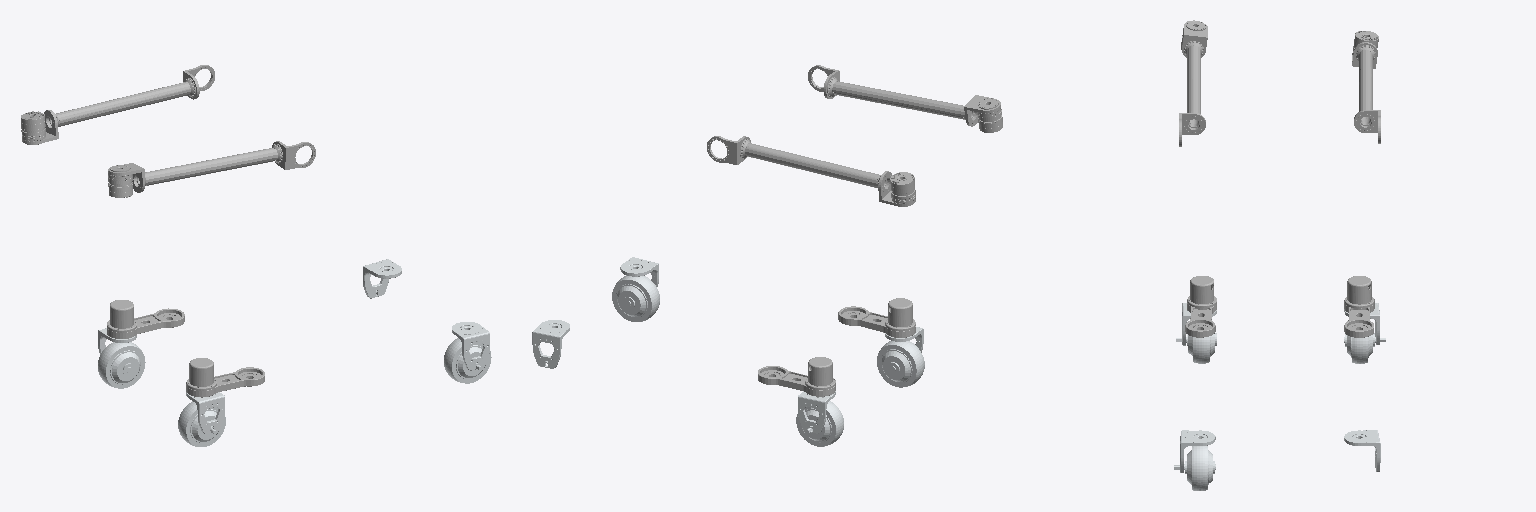
--- Render facts (derived) ---
The picture shows the robot from 3 angles, left to right: view 1: azimuth 30°, elevation 25°; view 2: azimuth 150°, elevation 25°; view 3: azimuth 270°, elevation 25°; orthographic projection.
Model ia_robot with 19 links and 18 joints (18 continuous), rooted at base_link, posed every joint at zero.
Visible links, largest first — view 1: LeftARM03, RightARM3, LeftFrontWheelOrient2, RightFrontWheelOrient2, RightFrontWheelOrient1, LeftFrontwheel, leftbackwheel, leftbackorient, Rightbackorient, LeftFrontWheelOrient1; view 2: RightARM3, LeftARM03, LeftFrontWheelOrient2, RightFrontWheelOrient2, LeftFrontwheel, leftbackwheel, Rightbackorient, RightFrontWheelOrient1, RightFrontWheelOrient01, leftbackorient; view 3: LeftARM03, RightARM3, RightFrontWheelOrient2, LeftFrontWheelOrient2, leftbackwheel, LeftFrontwheel, RightFrontWheelOrient1, Rightbackorient, leftbackorient.
Link boxes in pixels (left/top/right/bottom): LeftARM03: left=108, top=141, right=315, bottom=197; RightARM3: left=21, top=65, right=214, bottom=144; LeftFrontWheelOrient2: left=186, top=358, right=264, bottom=397; RightFrontWheelOrient2: left=107, top=300, right=184, bottom=338; RightFrontWheelOrient1: left=98, top=342, right=145, bottom=388; LeftFrontwheel: left=178, top=401, right=225, bottom=446; leftbackwheel: left=444, top=338, right=491, bottom=383; leftbackorient: left=452, top=322, right=489, bottom=370; Rightbackorient: left=363, top=259, right=401, bottom=298; LeftFrontWheelOrient1: left=186, top=392, right=224, bottom=433; RightARM3: left=707, top=136, right=915, bottom=206; LeftARM03: left=808, top=65, right=1002, bottom=132; LeftFrontWheelOrient2: left=838, top=298, right=915, bottom=337; RightFrontWheelOrient2: left=758, top=357, right=835, bottom=396; LeftFrontwheel: left=877, top=341, right=924, bottom=387; leftbackwheel: left=612, top=275, right=659, bottom=321; Rightbackorient: left=532, top=320, right=569, bottom=368; RightFrontWheelOrient1: left=796, top=401, right=843, bottom=446; RightFrontWheelOrient01: left=798, top=391, right=835, bottom=433; leftbackorient: left=620, top=257, right=658, bottom=286; LeftARM03: left=1179, top=20, right=1207, bottom=146; RightARM3: left=1352, top=31, right=1380, bottom=143; RightFrontWheelOrient2: left=1344, top=276, right=1374, bottom=337; LeftFrontWheelOrient2: left=1185, top=276, right=1216, bottom=337; leftbackwheel: left=1174, top=446, right=1215, bottom=490; LeftFrontwheel: left=1176, top=333, right=1216, bottom=363; RightFrontWheelOrient1: left=1344, top=333, right=1385, bottom=363; Rightbackorient: left=1344, top=430, right=1380, bottom=471; leftbackorient: left=1180, top=430, right=1215, bottom=472.
Size in the robot's own frame: 1.44 by 0.7004 by 1.09 metres.
11 mesh visuals loaded from 19 distinct referenced files (11 binary STL); not drawn: 8 (reference not matched to a file when rendering).

robot.urdf — ia_robot:
<?xml version="1.0" encoding="utf-8"?>
<!-- This URDF was automatically created by SolidWorks to URDF Exporter! Originally created by Stephen Brawner ([email redacted]) 
     Commit Version: 1.6.0-4-g7f85cfe  Build Version: 1.6.7995.38578
     For more information, please see http://wiki.ros.org/sw_urdf_exporter -->
<robot
  name="ia_robot">
  <link
    name="base_link">
    <inertial>
      <origin
        xyz="0.037909 0.00021539 0.8026"
        rpy="0 0 0" />
      <mass
        value="42.189" />
      <inertia
        ixx="0.60924"
        ixy="-1.347E-07"
        ixz="0.0040799"
        iyy="0.39675"
        iyz="-6.3541E-06"
        izz="0.41271" />
    </inertial>
    <visual>
      <origin
        xyz="0 0 0"
        rpy="0 0 0" />
      <geometry>
        <mesh
          filename="package://ia_robot/meshes/base_link.STL" />
      </geometry>
      <material
        name="">
        <color
          rgba="0.75294 0.75294 0.75294 1" />
      </material>
    </visual>
    <collision>
      <origin
        xyz="0 0 0"
        rpy="0 0 0" />
      <geometry>
        <mesh
          filename="package://ia_robot/meshes/base_link.STL" />
      </geometry>
    </collision>
  </link>
  <joint
    name="leftbackwheel01"
    type="continuous">
    <origin
      xyz="-2.8509E-05 -0.0019998 -0.11"
      rpy="1.5708 0 3.1416" />
    <parent
      link="leftbackorient" />
    <child
      link="leftbackwheel" />
    <axis
      xyz="0 0 -1" />
    <limit
      effort="50"
      velocity="0" />
  </joint>
  <link
    name="leftbackorient">
    <inertial>
      <origin
        xyz="-0.00048945 -0.034334 -0.028302"
        rpy="0 0 0" />
      <mass
        value="0.21206" />
      <inertia
        ixx="0.00050188"
        ixy="-7.6737E-07"
        ixz="-1.9027E-06"
        iyy="0.00044807"
        iyz="-0.00013346"
        izz="0.00041211" />
    </inertial>
    <visual>
      <origin
        xyz="0 0 0"
        rpy="0 0 0" />
      <geometry>
        <mesh
          filename="package://ia_robot/meshes/leftbackorient.STL" />
      </geometry>
      <material
        name="">
        <color
          rgba="0.89804 0.91765 0.92941 1" />
      </material>
    </visual>
    <collision>
      <origin
        xyz="0 0 0"
        rpy="0 0 0" />
      <geometry>
        <mesh
          filename="package://ia_robot/meshes/leftbackorient.STL" />
      </geometry>
    </collision>
  </link>
  <joint
    name="leftbackorient01"
    type="continuous">
    <origin
      xyz="0.5 -0.2635 0.18937"
      rpy="0 0 0" />
    <parent
      link="base_link" />
    <child
      link="leftbackorient" />
    <axis
      xyz="0 0 -1" />
    <limit
      effort="13.5"
      velocity="0" />
  </joint>
  <link
    name="leftbackwheel">
    <inertial>
      <origin
        xyz="0 0 -0.00020767"
        rpy="0 0 0" />
      <mass
        value="3.6182" />
      <inertia
        ixx="0.0065597"
        ixy="7.8927E-20"
        ixz="3.0493E-19"
        iyy="0.0065597"
        iyz="-3.7641E-19"
        izz="0.0096608" />
    </inertial>
    <visual>
      <origin
        xyz="0 0 0"
        rpy="0 0 0" />
      <geometry>
        <mesh
          filename="package://ia_robot/meshes/leftbackwheel.STL" />
      </geometry>
      <material
        name="">
        <color
          rgba="0.89804 0.91765 0.92941 1" />
      </material>
    </visual>
    <collision>
      <origin
        xyz="0 0 0"
        rpy="0 0 0" />
      <geometry>
        <mesh
          filename="package://ia_robot/meshes/leftbackwheel.STL" />
      </geometry>
    </collision>
  </link>
  <link
    name="Rightbackorient">
    <inertial>
      <origin
        xyz="-0.0027669 0.034225 -0.028302"
        rpy="0 0 0" />
      <mass
        value="0.21206" />
      <inertia
        ixx="0.00050155"
        ixy="4.3244E-06"
        ixz="-1.0756E-05"
        iyy="0.0004484"
        iyz="0.00013304"
        izz="0.00041211" />
    </inertial>
    <visual>
      <origin
        xyz="0 0 0"
        rpy="0 0 0" />
      <geometry>
        <mesh
          filename="package://ia_robot/meshes/Rightbackorient.STL" />
      </geometry>
      <material
        name="">
        <color
          rgba="0.89804 0.91765 0.92941 1" />
      </material>
    </visual>
    <collision>
      <origin
        xyz="0 0 0"
        rpy="0 0 0" />
      <geometry>
        <mesh
          filename="package://ia_robot/meshes/Rightbackorient.STL" />
      </geometry>
    </collision>
  </link>
  <joint
    name="Rightbackorient-1"
    type="continuous">
    <origin
      xyz="0.5 0.2635 0.18937"
      rpy="0 0 0" />
    <parent
      link="base_link" />
    <child
      link="Rightbackorient" />
    <axis
      xyz="0 0 -1" />
    <limit
      effort="13.5"
      velocity="0" />
  </joint>
  <link
    name="Rightbackwheel">
    <inertial>
      <origin
        xyz="-1.67345419225806E-05 1.11022302462516E-16 -0.000206996303198315"
        rpy="0 0 0" />
      <mass
        value="3.61818023273865" />
      <inertia
        ixx="0.00657987024245532"
        ixy="7.49384900018109E-20"
        ixz="0.000249074423068998"
        iyy="0.00655966618652465"
        iyz="-3.63354164127521E-19"
        izz="0.0096406359768352" />
    </inertial>
    <visual>
      <origin
        xyz="0 0 0"
        rpy="0 0 0" />
      <geometry>
        <mesh
          filename="package://ia_robot/meshes/Rightbackwheel.STL" />
      </geometry>
      <material
        name="">
        <color
          rgba="0.898039215686275 0.917647058823529 0.929411764705882 1" />
      </material>
    </visual>
    <collision>
      <origin
        xyz="0 0 0"
        rpy="0 0 0" />
      <geometry>
        <mesh
          filename="package://ia_robot/meshes/Rightbackwheel.STL" />
      </geometry>
    </collision>
  </link>
  <joint
    name="Rightbackwheel-1"
    type="continuous">
    <origin
      xyz="-0.000161163470126346 0.00199349600849796 -0.11"
      rpy="1.5708 0 0" />
    <parent
      link="Rightbackorient" />
    <child
      link="Rightbackwheel" />
    <axis
      xyz="-0.08058173506303 0 -0.996748004248933" />
    <limit
      effort="50"
      velocity="0" />
  </joint>
  <link
    name="LeftFrontWheelOrient2">
    <inertial>
      <origin
        xyz="-0.11285418489353 0.00356568192950379 0.0139762389318379"
        rpy="0 0 0" />
      <mass
        value="0.427167332080997" />
      <inertia
        ixx="0.000418522032180055"
        ixy="4.89846927753665E-05"
        ixz="4.27468579690659E-05"
        iyy="0.00190242881630566"
        iyz="-2.39309753871588E-07"
        izz="0.00211243261005077" />
    </inertial>
    <visual>
      <origin
        xyz="0 0 0"
        rpy="0 0 0" />
      <geometry>
        <mesh
          filename="package://ia_robot/meshes/LeftFrontWheelOrient2.STL" />
      </geometry>
      <material
        name="">
        <color
          rgba="0.752941176470588 0.752941176470588 0.752941176470588 1" />
      </material>
    </visual>
    <collision>
      <origin
        xyz="0 0 0"
        rpy="0 0 0" />
      <geometry>
        <mesh
          filename="package://ia_robot/meshes/LeftFrontWheelOrient2.STL" />
      </geometry>
    </collision>
  </link>
  <joint
    name="LeftFrontWheelOrient2-1"
    type="continuous">
    <origin
      xyz="-0.32 -0.2635 0.20475"
      rpy="0 0 0" />
    <parent
      link="base_link" />
    <child
      link="LeftFrontWheelOrient2" />
    <axis
      xyz="0 0 -1" />
    <limit
      effort="49"
      velocity="0" />
  </joint>
  <link
    name="LeftFrontWheelOrient1">
    <inertial>
      <origin
        xyz="-0.000948507831906586 0.0343239444320287 -0.0283016270647419"
        rpy="0 0 0" />
      <mass
        value="0.212057188740176" />
      <inertia
        ixx="0.000501854273498574"
        ixy="1.48669107184792E-06"
        ixz="-3.687019665672E-06"
        iyy="0.000448096442339725"
        iyz="0.000133424417808254"
        izz="0.000412109578902224" />
    </inertial>
    <visual>
      <origin
        xyz="0 0 0"
        rpy="0 0 0" />
      <geometry>
        <mesh
          filename="package://ia_robot/meshes/LeftFrontWheelOrient1.STL" />
      </geometry>
      <material
        name="">
        <color
          rgba="0.898039215686275 0.917647058823529 0.929411764705882 1" />
      </material>
    </visual>
    <collision>
      <origin
        xyz="0 0 0"
        rpy="0 0 0" />
      <geometry>
        <mesh
          filename="package://ia_robot/meshes/LeftFrontWheelOrient1.STL" />
      </geometry>
    </collision>
  </link>
  <joint
    name="LeftFrontWheelOrient1-1"
    type="continuous">
    <origin
      xyz="-0.179905283136192 0.00583858713100255 -0.0146000000000007"
      rpy="0 0 3.1416" />
    <parent
      link="LeftFrontWheelOrient2" />
    <child
      link="LeftFrontWheelOrient1" />
    <axis
      xyz="0 0 -1" />
    <limit
      effort="13.5"
      velocity="0" />
  </joint>
  <link
    name="LeftFrontwheel">
    <inertial>
      <origin
        xyz="1.11022302462516E-16 1.11022302462516E-16 -0.000207671650523461"
        rpy="0 0 0" />
      <mass
        value="3.61818023273865" />
      <inertia
        ixx="0.00655973110012054"
        ixy="-1.3505572451808E-08"
        ixz="8.40256683676266E-19"
        iyy="0.00655966899642117"
        iyz="-8.51314352824881E-19"
        izz="0.00966077230927346" />
    </inertial>
    <visual>
      <origin
        xyz="0 0 0"
        rpy="0 0 0" />
      <geometry>
        <mesh
          filename="package://ia_robot/meshes/LeftFrontwheel.STL" />
      </geometry>
      <material
        name="">
        <color
          rgba="0.898039215686275 0.917647058823529 0.929411764705882 1" />
      </material>
    </visual>
    <collision>
      <origin
        xyz="0 0 0"
        rpy="0 0 0" />
      <geometry>
        <mesh
          filename="package://ia_robot/meshes/LeftFrontwheel.STL" />
      </geometry>
    </collision>
  </link>
  <joint
    name="LeftFrontwheel-1"
    type="continuous">
    <origin
      xyz="-5.52466221374059E-05 0.00199923680706893 -0.11"
      rpy="1.5708 0 0" />
    <parent
      link="LeftFrontWheelOrient1" />
    <child
      link="LeftFrontwheel" />
    <axis
      xyz="0 0 -1" />
    <limit
      effort="50"
      velocity="0" />
  </joint>
  <link
    name="RightFrontWheelOrient2">
    <inertial>
      <origin
        xyz="-0.112910374002102 0.00016905120845867 0.0139762389318376"
        rpy="0 0 0" />
      <mass
        value="0.427167332080998" />
      <inertia
        ixx="0.000416919067382263"
        ixy="4.27554581620662E-06"
        ixz="4.27347098463978E-05"
        iyy="0.00190403178110341"
        iyz="1.04676154423375E-06"
        izz="0.00211243261005077" />
    </inertial>
    <visual>
      <origin
        xyz="0 0 0"
        rpy="0 0 0" />
      <geometry>
        <mesh
          filename="package://ia_robot/meshes/RightFrontWheelOrient2.STL" />
      </geometry>
      <material
        name="">
        <color
          rgba="0.752941176470588 0.752941176470588 0.752941176470588 1" />
      </material>
    </visual>
    <collision>
      <origin
        xyz="0 0 0"
        rpy="0 0 0" />
      <geometry>
        <mesh
          filename="package://ia_robot/meshes/RightFrontWheelOrient2.STL" />
      </geometry>
    </collision>
  </link>
  <joint
    name="RightFrontWheelOrient2-1"
    type="continuous">
    <origin
      xyz="-0.32 0.2635 0.20412"
      rpy="0 0 0" />
    <parent
      link="base_link" />
    <child
      link="RightFrontWheelOrient2" />
    <axis
      xyz="0 0 -1" />
    <limit
      effort="49"
      velocity="0" />
  </joint>
  <link
    name="RightFrontWheelOrient01">
    <inertial>
      <origin
        xyz="-0.00182113120158134 0.0342887189825656 -0.0283016221542728"
        rpy="0 0 0" />
      <mass
        value="0.212057174883898" />
      <inertia
        ixx="0.000501743833498989"
        ixy="2.8515022611008E-06"
        ixz="-7.07907323328318E-06"
        iyy="0.000448206722575077"
        iyz="0.000133287481761764"
        izz="0.000412109562839574" />
    </inertial>
    <visual>
      <origin
        xyz="0 0 0"
        rpy="0 0 0" />
      <geometry>
        <mesh
          filename="package://ia_robot/meshes/RightFrontWheelOrient01.STL" />
      </geometry>
      <material
        name="">
        <color
          rgba="0.898039215686275 0.917647058823529 0.929411764705882 1" />
      </material>
    </visual>
    <collision>
      <origin
        xyz="0 0 0"
        rpy="0 0 0" />
      <geometry>
        <mesh
          filename="package://ia_robot/meshes/RightFrontWheelOrient01.STL" />
      </geometry>
    </collision>
  </link>
  <joint
    name="RightFrontWheelOrient01-1"
    type="continuous">
    <origin
      xyz="-0.18 0.00042381 -0.0146"
      rpy="0 0 0" />
    <parent
      link="RightFrontWheelOrient2" />
    <child
      link="RightFrontWheelOrient01" />
    <axis
      xyz="0 0 -1" />
    <limit
      effort="13.5"
      velocity="0" />
  </joint>
  <link
    name="RightFrontWheelOrient1">
    <inertial>
      <origin
        xyz="0 0 -0.000207671650523433"
        rpy="0 0 0" />
      <mass
        value="3.61818023273865" />
      <inertia
        ixx="0.00655973110012055"
        ixy="-1.35055724514069E-08"
        ixz="-7.58941520739853E-19"
        iyy="0.00655966899642118"
        iyz="-1.72204598307509E-20"
        izz="0.00966077230927346" />
    </inertial>
    <visual>
      <origin
        xyz="0 0 0"
        rpy="0 0 0" />
      <geometry>
        <mesh
          filename="package://ia_robot/meshes/RightFrontWheelOrient1.STL" />
      </geometry>
      <material
        name="">
        <color
          rgba="0.898039215686275 0.917647058823529 0.929411764705882 1" />
      </material>
    </visual>
    <collision>
      <origin
        xyz="0 0 0"
        rpy="0 0 0" />
      <geometry>
        <mesh
          filename="package://ia_robot/meshes/RightFrontWheelOrient1.STL" />
      </geometry>
    </collision>
  </link>
  <joint
    name="RightFrontWheel"
    type="continuous">
    <origin
      xyz="-0.00010607 0.0019972 -0.11"
      rpy="1.5708 0 0" />
    <parent
      link="RightFrontWheelOrient01" />
    <child
      link="RightFrontWheelOrient1" />
    <axis
      xyz="0 0 -1" />
    <limit
      effort="50"
      velocity="0" />
  </joint>
  <link
    name="LeftARM1">
    <inertial>
      <origin
        xyz="0.0857028873433471 -7.9505648153122E-05 0.0224604601278706"
        rpy="0 0 0" />
      <mass
        value="1.82195171111395" />
      <inertia
        ixx="0.00497485901808976"
        ixy="5.45710505076505E-06"
        ixz="-0.00199391908800169"
        iyy="0.010857324827174"
        iyz="1.84973732356237E-06"
        izz="0.0115954323258876" />
    </inertial>
    <visual>
      <origin
        xyz="0 0 0"
        rpy="0 0 0" />
      <geometry>
        <mesh
          filename="package://ia_robot/meshes/LeftARM1.STL" />
      </geometry>
      <material
        name="">
        <color
          rgba="0.752941176470588 0.752941176470588 0.752941176470588 1" />
      </material>
    </visual>
    <collision>
      <origin
        xyz="0 0 0"
        rpy="0 0 0" />
      <geometry>
        <mesh
          filename="package://ia_robot/meshes/LeftARM1.STL" />
      </geometry>
    </collision>
  </link>
  <joint
    name="LeftARMJoint1"
    type="continuous">
    <origin
      xyz="0 -0.195 1"
      rpy="1.5708 0 0" />
    <parent
      link="base_link" />
    <child
      link="LeftARM1" />
    <axis
      xyz="0 0 1" />
    <limit
      effort="267"
      velocity="0" />
  </joint>
  <link
    name="LeftARM02">
    <inertial>
      <origin
        xyz="0.0071369 -0.00047892 0.13771"
        rpy="0 0 0" />
      <mass
        value="0.27589" />
      <inertia
        ixx="0.00035994"
        ixy="-1.0176E-07"
        ixz="-2.8551E-05"
        iyy="0.00035843"
        iyz="1.916E-06"
        izz="0.00019777" />
    </inertial>
    <visual>
      <origin
        xyz="0 0 0"
        rpy="0 0 0" />
      <geometry>
        <mesh
          filename="package://ia_robot/meshes/LeftARM02.STL" />
      </geometry>
      <material
        name="">
        <color
          rgba="0.75294 0.75294 0.75294 1" />
      </material>
    </visual>
    <collision>
      <origin
        xyz="0 0 0"
        rpy="0 0 0" />
      <geometry>
        <mesh
          filename="package://ia_robot/meshes/LeftARM02.STL" />
      </geometry>
    </collision>
  </link>
  <joint
    name="LeftARMJoint02"
    type="continuous">
    <origin
      xyz="0.12634 -0.0001172 0.073"
      rpy="3.1416 -1.5708 3.1416" />
    <parent
      link="LeftARM1" />
    <child
      link="LeftARM02" />
    <axis
      xyz="0 0 -1" />
    <limit
      effort="49"
      velocity="0" />
  </joint>
  <link
    name="LeftARM03">
    <inertial>
      <origin
        xyz="-0.33877 0.022556 -0.037558"
        rpy="0 0 0" />
      <mass
        value="0.47985" />
      <inertia
        ixx="0.00039931"
        ixy="0.00017623"
        ixz="-4.1078E-05"
        iyy="0.0031806"
        iyz="2.679E-06"
        izz="0.0031962" />
    </inertial>
    <visual>
      <origin
        xyz="0 0 0"
        rpy="0 0 0" />
      <geometry>
        <mesh
          filename="package://ia_robot/meshes/LeftARM03.STL" />
      </geometry>
      <material
        name="">
        <color
          rgba="0.75294 0.75294 0.75294 1" />
      </material>
    </visual>
    <collision>
      <origin
        xyz="0 0 0"
        rpy="0 0 0" />
      <geometry>
        <mesh
          filename="package://ia_robot/meshes/LeftARM03.STL" />
      </geometry>
    </collision>
  </link>
  <joint
    name="LeftARMJoint03"
    type="continuous">
    <origin
      xyz="0.059067 -0.003961 0.28311"
      rpy="1.5708 1.5708 1.5708" />
    <parent
      link="LeftARM02" />
    <child
      link="LeftARM03" />
    <axis
      xyz="0 0 1" />
    <limit
      lower="0"
      upper="0"
      effort="133"
      velocity="0" />
  </joint>
  <link
    name="LeftEnd">
    <inertial>
      <origin
        xyz="-0.11892 0.0078495 -0.029023"
        rpy="0 0 0" />
      <mass
        value="0.5725" />
      <inertia
        ixx="0.00048907"
        ixy="0.00010933"
        ixz="-0.00011104"
        iyy="0.0021383"
        iyz="7.3296E-06"
        izz="0.0021312" />
    </inertial>
    <visual>
      <origin
        xyz="0 0 0"
        rpy="0 0 0" />
      <geometry>
        <mesh
          filename="package://ia_robot/meshes/LeftEnd.STL" />
      </geometry>
      <material
        name="">
        <color
          rgba="0.75294 0.75294 0.75294 1" />
      </material>
    </visual>
    <collision>
      <origin
        xyz="0 0 0"
        rpy="0 0 0" />
      <geometry>
        <mesh
          filename="package://ia_robot/meshes/LeftEnd.STL" />
      </geometry>
    </collision>
  </link>
  <joint
    name="LeftEndJoint"
    type="continuous">
    <origin
      xyz="-0.66222 0.086205 -0.049114"
      rpy="-1.5708 0 0" />
    <parent
      link="LeftARM03" />
    <child
      link="LeftEnd" />
    <axis
      xyz="0 0 1" />
    <limit
      lower="0"
      upper="0"
      effort="61"
      velocity="0" />
  </joint>
  <link
    name="RightARM1">
    <inertial>
      <origin
        xyz="0.085703 7.9506E-05 0.02246"
        rpy="0 0 0" />
      <mass
        value="1.822" />
      <inertia
        ixx="0.0049749"
        ixy="-5.4571E-06"
        ixz="-0.0019939"
        iyy="0.010857"
        iyz="-1.8497E-06"
        izz="0.011595" />
    </inertial>
    <visual>
      <origin
        xyz="0 0 0"
        rpy="0 0 0" />
      <geometry>
        <mesh
          filename="package://ia_robot/meshes/RightARM1.STL" />
      </geometry>
      <material
        name="">
        <color
          rgba="0.75294 0.75294 0.75294 1" />
      </material>
    </visual>
    <collision>
      <origin
        xyz="0 0 0"
        rpy="0 0 0" />
      <geometry>
        <mesh
          filename="package://ia_robot/meshes/RightARM1.STL" />
      </geometry>
    </collision>
  </link>
  <joint
    name="RightARMJoint1"
    type="continuous">
    <origin
      xyz="0 0.195 1"
      rpy="-1.5708 0 0" />
    <parent
      link="base_link" />
    <child
      link="RightARM1" />
    <axis
      xyz="0 0 1" />
    <limit
      effort="267"
      velocity="0" />
  </joint>
  <link
    name="RihgtARM2">
    <inertial>
      <origin
        xyz="0.0070917 -0.00093374 0.13771"
        rpy="0 0 0" />
      <mass
        value="0.27589" />
      <inertia
        ixx="0.00035992"
        ixy="-1.9718E-07"
        ixz="-2.8371E-05"
        iyy="0.00035845"
        iyz="3.7355E-06"
        izz="0.00019777" />
    </inertial>
    <visual>
      <origin
        xyz="0 0 0"
        rpy="0 0 0" />
      <geometry>
        <mesh
          filename="package://ia_robot/meshes/RihgtARM2.STL" />
      </geometry>
      <material
        name="">
        <color
          rgba="0.75294 0.75294 0.75294 1" />
      </material>
    </visual>
    <collision>
      <origin
        xyz="0 0 0"
        rpy="0 0 0" />
      <geometry>
        <mesh
          filename="package://ia_robot/meshes/RihgtARM2.STL" />
      </geometry>
    </collision>
  </link>
  <joint
    name="RihgtARMJoint2"
    type="continuous">
    <origin
      xyz="0.126339132538937 0.000117203456298176 0.0729999999999077"
      rpy="1.5708 -1.5708 -1.5708" />
    <parent
      link="RightARM1" />
    <child
      link="RihgtARM2" />
    <axis
      xyz="0 0 -1" />
    <limit
      effort="49"
      velocity="0" />
  </joint>
  <link
    name="RightARM3">
    <inertial>
      <origin
        xyz="-0.33947 -0.006255 0.037558"
        rpy="0 0 0" />
      <mass
        value="0.47985" />
      <inertia
        ixx="0.00038882"
        ixy="-4.1952E-05"
        ixz="4.116E-05"
        iyy="0.0031911"
        iyz="7.025E-07"
        izz="0.0031962" />
    </inertial>
    <visual>
      <origin
        xyz="0 0 0"
        rpy="0 0 0" />
      <geometry>
        <mesh
          filename="package://ia_robot/meshes/RightARM3.STL" />
      </geometry>
      <material
        name="">
        <color
          rgba="0.75294 0.75294 0.75294 1" />
      </material>
    </visual>
    <collision>
      <origin
        xyz="0 0 0"
        rpy="0 0 0" />
      <geometry>
        <mesh
          filename="package://ia_robot/meshes/RightARM3.STL" />
      </geometry>
    </collision>
  </link>
  <joint
    name="RightARMJoint3"
    type="continuous">
    <origin
      xyz="0.058694 -0.0077252 0.28311"
      rpy="-1.5708 1.5708 1.5708" />
    <parent
      link="RihgtARM2" />
    <child
      link="RightARM3" />
    <axis
      xyz="0 0 -1" />
    <limit
      lower="0"
      upper="0"
      effort="133"
      velocity="0" />
  </joint>
  <link
    name="RightEnd">
    <inertial>
      <origin
        xyz="0.0021964 -0.11916 -0.029023"
        rpy="0 0 0" />
      <mass
        value="0.5725" />
      <inertia
        ixx="0.0021449"
        ixy="3.0654E-05"
        ixz="2.0508E-06"
        iyy="0.00048242"
        iyz="-0.00011126"
        izz="0.0021312" />
    </inertial>
    <visual>
      <origin
        xyz="0 0 0"
        rpy="0 0 0" />
      <geometry>
        <mesh
          filename="package://ia_robot/meshes/RightEnd.STL" />
      </geometry>
      <material
        name="">
        <color
          rgba="0.75294 0.75294 0.75294 1" />
      </material>
    </visual>
    <collision>
      <origin
        xyz="0 0 0"
        rpy="0 0 0" />
      <geometry>
        <mesh
          filename="package://ia_robot/meshes/RightEnd.STL" />
      </geometry>
    </collision>
  </link>
  <joint
    name="RightEndJOINT"
    type="continuous">
    <origin
      xyz="-0.66559 -0.054292 0.049114"
      rpy="1.5708 1.5708 0" />
    <parent
      link="RightARM3" />
    <child
      link="RightEnd" />
    <axis
      xyz="0 0 1" />
    <limit
      lower="0"
      upper="0"
      effort="61"
      velocity="0" />
  </joint>
</robot>
